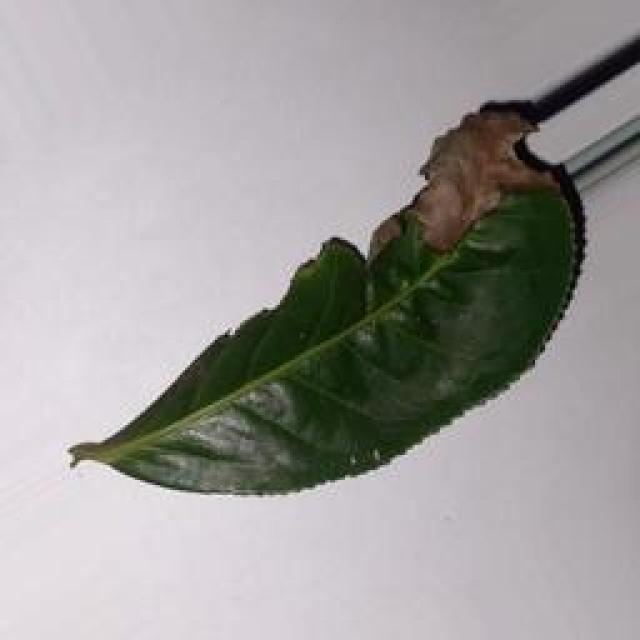Brown Blight: (80, 97, 584, 505)
